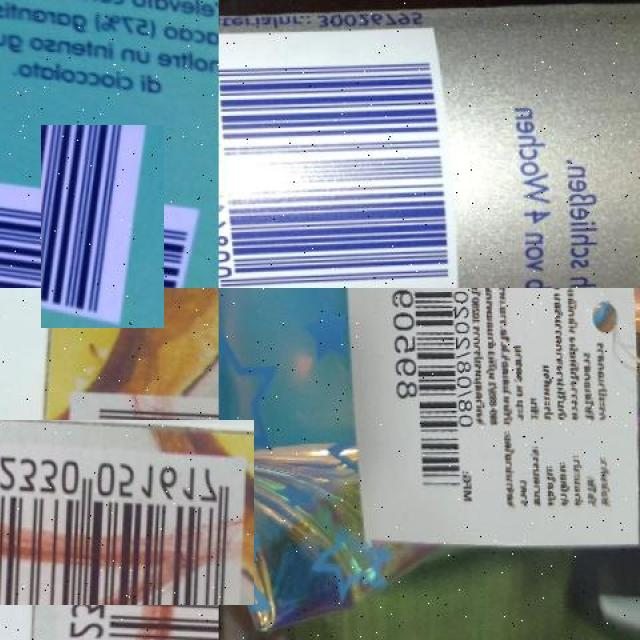Barcode: (219, 29, 461, 288), (16, 402, 236, 622), (20, 145, 184, 308), (384, 288, 467, 495)
